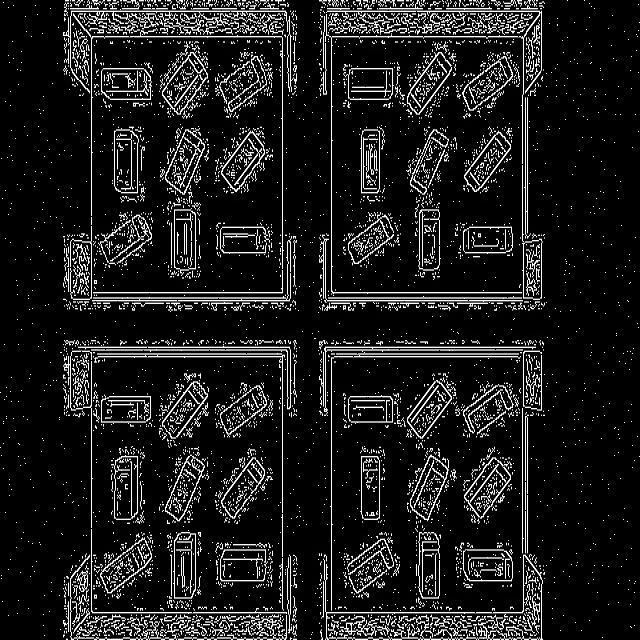Battery: (216, 448, 272, 523), (160, 447, 209, 523), (159, 373, 209, 447), (215, 52, 271, 118), (160, 42, 208, 118), (216, 128, 272, 193), (345, 533, 400, 598), (464, 448, 511, 523), (99, 533, 151, 598), (160, 128, 209, 193), (95, 213, 152, 268), (462, 383, 520, 437), (216, 383, 272, 437), (461, 55, 514, 112), (344, 213, 399, 267), (408, 52, 452, 115), (410, 128, 451, 195), (408, 380, 452, 438), (465, 135, 511, 190), (111, 447, 144, 522), (217, 543, 272, 587), (114, 127, 145, 202), (169, 202, 200, 277), (410, 458, 448, 519), (462, 543, 512, 582), (218, 223, 272, 257), (101, 68, 151, 102), (171, 532, 196, 598), (348, 67, 394, 100), (419, 208, 440, 277), (462, 227, 512, 255), (101, 395, 151, 423), (419, 532, 440, 598), (361, 128, 381, 195), (361, 456, 380, 520), (348, 397, 392, 423)
